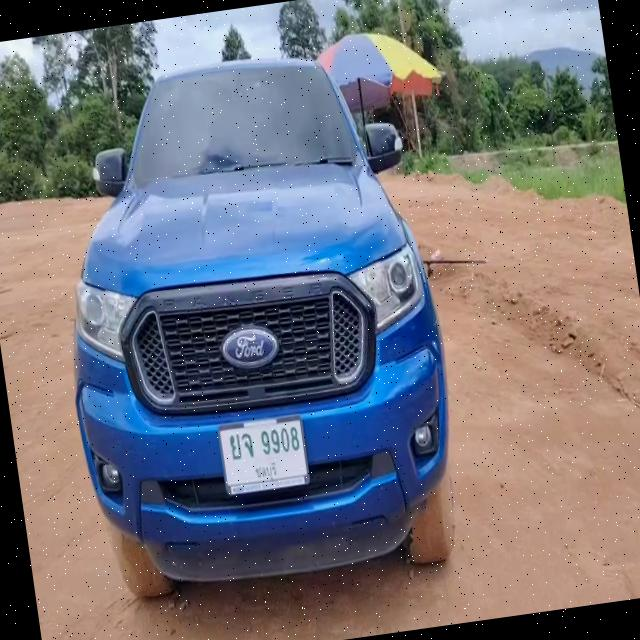Digit: (258, 422, 302, 458)
Licenseplate: (218, 416, 312, 497)
Provincename: (252, 460, 278, 482)
Thaichar: (230, 430, 254, 460)
